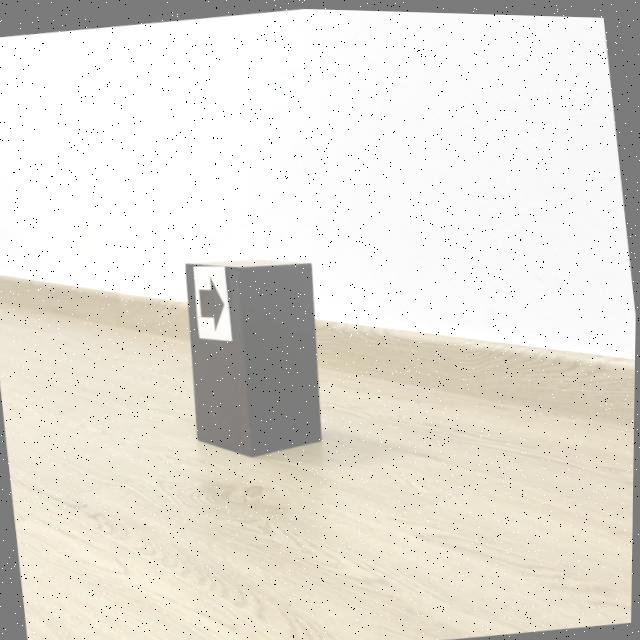RIGHT: (199, 276, 225, 329)
